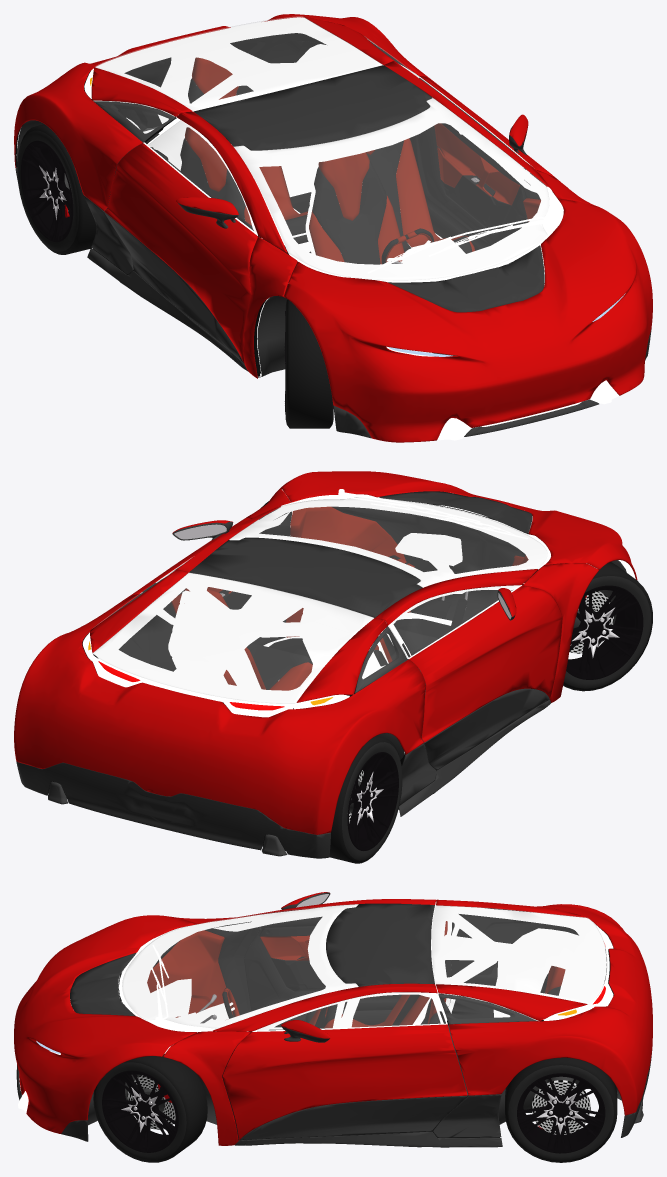
Rendered from wob-car.glb.
3 views of the same model, one above another, from view 1: azimuth 30°, elevation 25°; view 2: azimuth 150°, elevation 25°; view 3: azimuth 270°, elevation 25° (orthographic). The views are drawn at different scales.
Visible parts, largest first — view 1: BodyDoorLColor1, BodyDoorLWindow, BodyDoorLHandle01, BodyDoorLColor2, InteriorDoorL03, InteriorDoorL01, InteriorSeatsColor2, Mesh_89, WheelFrontLRim, BodyUnderside, InteriorMid, InteriorSteeringDash; view 2: BodyDoorLColor1, BodyDoorLWindow, BodyDoorLColor2, BodyDoorLHandle01, InteriorDoorL01, WheelFrontLRim, Mesh_89, InteriorDoorL03, InteriorSeatsColor2, InteriorFloormats, InteriorSteeringDash, BodyUnderside (+2 smaller); view 3: BodyDoorLColor1, BodyDoorLWindow, BodyDoorLColor2, BodyDoorLHandle01, Mesh_89, WheelFrontLRim, InteriorDoorL01, InteriorDoorL03, InteriorMid, WheelFrontLBrakeDisc, BodyUnderside, InteriorSeatsColor2 (+1 smaller).
Part boxes in pixels (x1=…): BodyDoorLColor1: x1=14, y1=14, x2=652, y2=442; BodyDoorLWindow: x1=94, y1=16, x2=548, y2=280; BodyDoorLHandle01: x1=16, y1=17, x2=618, y2=440; BodyDoorLColor2: x1=15, y1=65, x2=651, y2=438; InteriorDoorL03: x1=185, y1=57, x2=540, y2=264; InteriorDoorL01: x1=15, y1=33, x2=526, y2=281; InteriorSeatsColor2: x1=180, y1=78, x2=472, y2=264; Mesh_89: x1=17, y1=124, x2=333, y2=428; WheelFrontLRim: x1=20, y1=140, x2=285, y2=414; BodyUnderside: x1=16, y1=78, x2=526, y2=377; InteriorMid: x1=93, y1=173, x2=557, y2=376; InteriorSteeringDash: x1=404, y1=239, x2=465, y2=263; BodyDoorLColor1: x1=14, y1=471, x2=637, y2=834; BodyDoorLWindow: x1=92, y1=497, x2=547, y2=703; BodyDoorLColor2: x1=16, y1=491, x2=550, y2=858; BodyDoorLHandle01: x1=83, y1=489, x2=635, y2=753; InteriorDoorL01: x1=48, y1=502, x2=528, y2=850; WheelFrontLRim: x1=347, y1=585, x2=643, y2=850; Mesh_89: x1=260, y1=501, x2=652, y2=863; InteriorDoorL03: x1=171, y1=506, x2=528, y2=690; InteriorSeatsColor2: x1=246, y1=628, x2=437, y2=689; InteriorFloormats: x1=269, y1=598, x2=467, y2=659; InteriorSteeringDash: x1=395, y1=533, x2=462, y2=566; BodyUnderside: x1=48, y1=560, x2=626, y2=856; BodyDoorLColor1: x1=14, y1=892, x2=652, y2=1145; BodyDoorLWindow: x1=122, y1=904, x2=606, y2=1030; BodyDoorLColor2: x1=16, y1=892, x2=652, y2=1147; BodyDoorLHandle01: x1=18, y1=901, x2=613, y2=1143; Mesh_89: x1=93, y1=1054, x2=617, y2=1162; WheelFrontLRim: x1=102, y1=1070, x2=605, y2=1153; InteriorDoorL01: x1=118, y1=908, x2=613, y2=1030; InteriorDoorL03: x1=147, y1=921, x2=565, y2=1028; InteriorMid: x1=205, y1=921, x2=499, y2=1143; WheelFrontLBrakeDisc: x1=127, y1=1075, x2=590, y2=1134; BodyUnderside: x1=39, y1=927, x2=643, y2=1125; InteriorSeatsColor2: x1=304, y1=973, x2=560, y2=1028.
Bounding box in the file's own units: 2.54 × 1.15 × 4.36.
22 materials, 2 textured.
